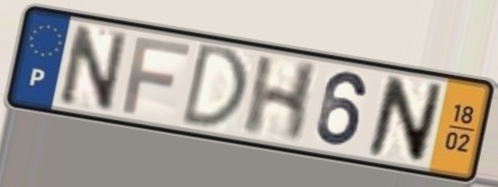6: (313, 69, 369, 150)
D: (177, 40, 251, 132)
F: (119, 34, 194, 117)
H: (238, 53, 324, 145)
N: (363, 73, 448, 167), (56, 20, 131, 114)
